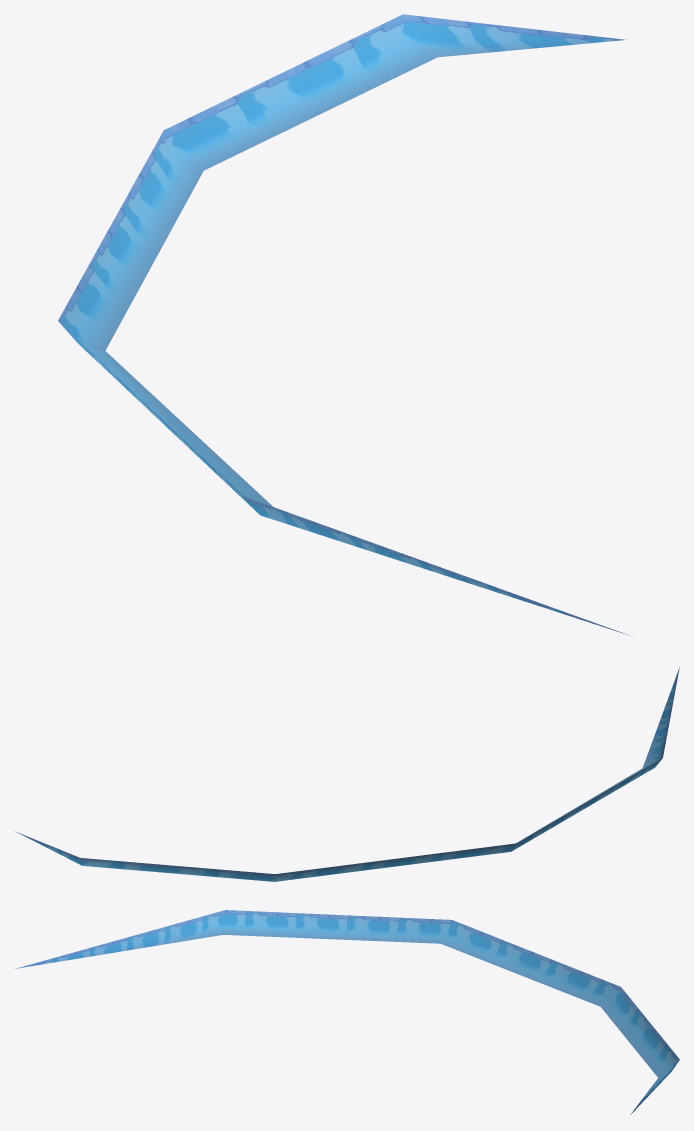
File: object_12_lev2.glb
3 renders of one model, top to bottom at view 1: azimuth 30°, elevation 25°; view 2: azimuth 150°, elevation 25°; view 3: azimuth 270°, elevation 25°, orthographic. The views are drawn at different scales.
Parts seen in each view (by area): view 1: object_12_lev2; view 2: object_12_lev2; view 3: object_12_lev2.
Boxes of the visible parts, x1,y1,x2,y2 form: object_12_lev2: (58,14,630,635); object_12_lev2: (15,667,679,881); object_12_lev2: (15,910,679,1114).
Bounding box in the file's own units: 20.06 × 0.7386 × 29.43.
Materials: 1 (1 with a texture image).
